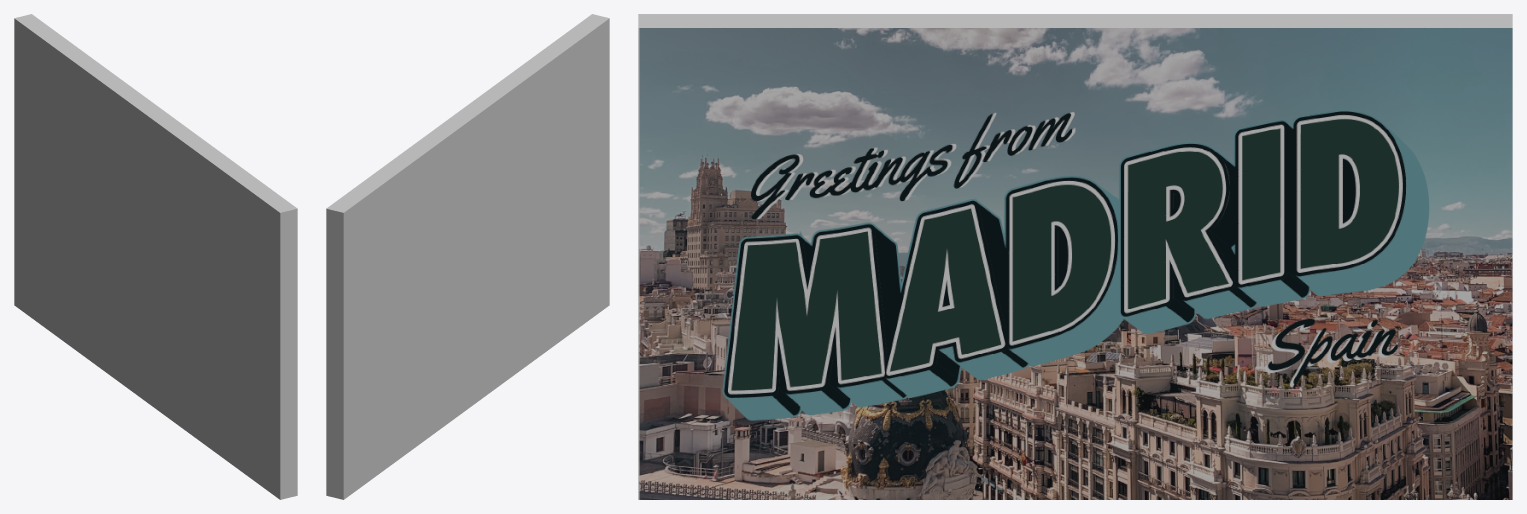
The model's file is Postcard_Spain.dae.
The picture shows the model from 3 angles, left to right: view 1: azimuth 30°, elevation 25°; view 2: azimuth 150°, elevation 25°; view 3: azimuth 270°, elevation 25°; orthographic projection. The views are drawn at different scales.
Parts seen in each view (by area): view 1: Postcard_Spain; view 2: Postcard_Spain; view 3: Postcard_Spain.
Boxes of the visible parts, bbox=[...] form: Postcard_Spain: bbox=[14, 14, 297, 499]; Postcard_Spain: bbox=[326, 14, 609, 499]; Postcard_Spain: bbox=[638, 14, 1512, 499].
Bounding box in the file's own units: 0.0989 × 1.55 × 2.6.
Materials: 3 (1 with a texture image).
